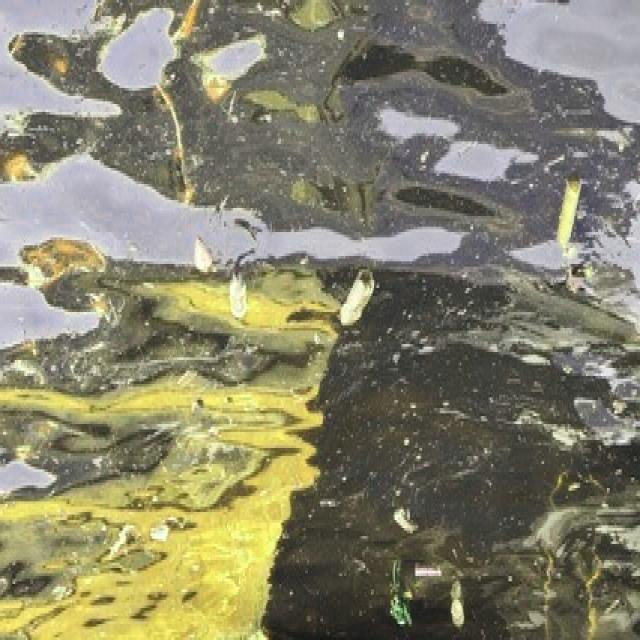Metal: (391, 503, 427, 538), (410, 561, 451, 579)
Plastic: (550, 171, 584, 259), (336, 267, 378, 328), (226, 268, 251, 321), (445, 589, 476, 630)
